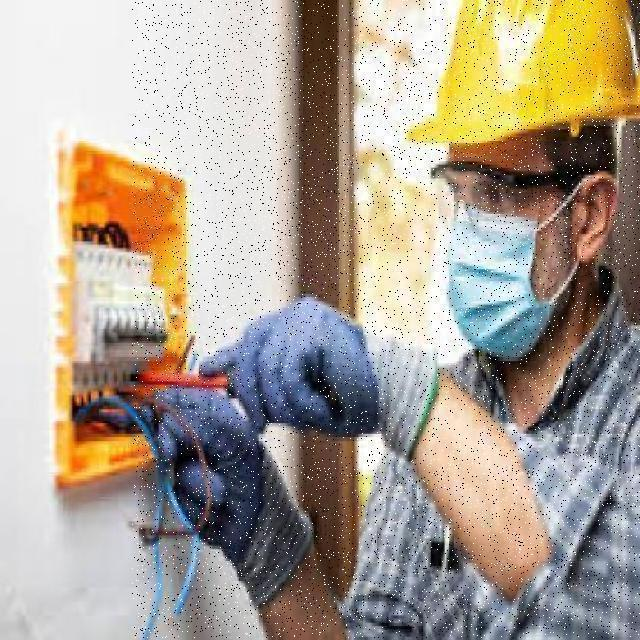gloves: (133, 379, 315, 600), (194, 283, 403, 430)
goggles: (430, 151, 581, 231)
helmet: (411, 0, 640, 155)
